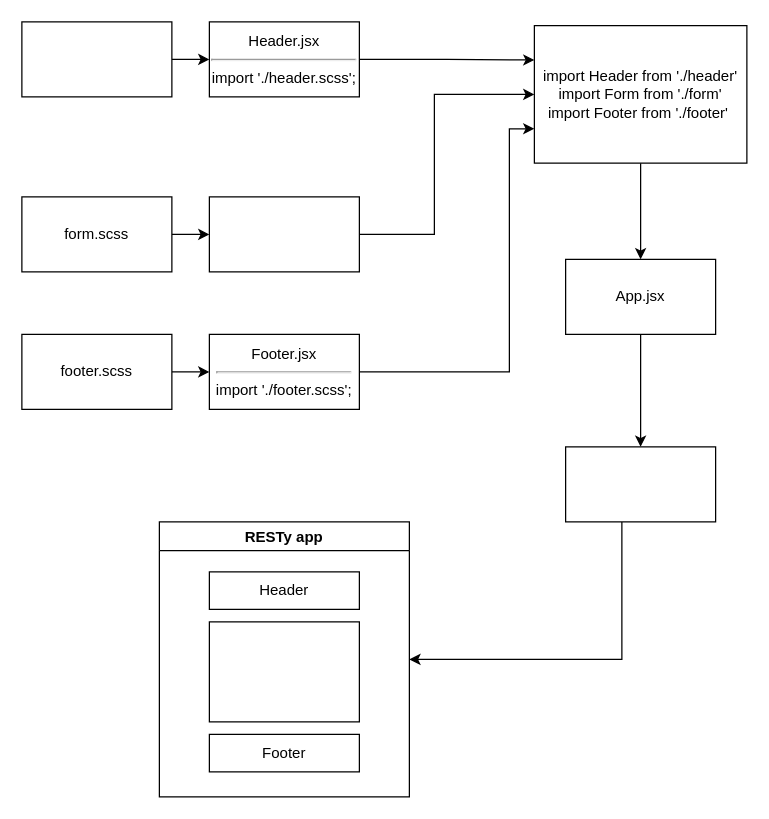
This 769x819 diagram has some shape labels left out. The shapes that lost their labels are listed below. From the top down, each one's centre as x and y in pixels, then its label:
point 96,59: header.scss
point 283,234: Form.jsx import './form.scss';
point 640,484: App.jsx import App from './App';
point 283,671: form render div
